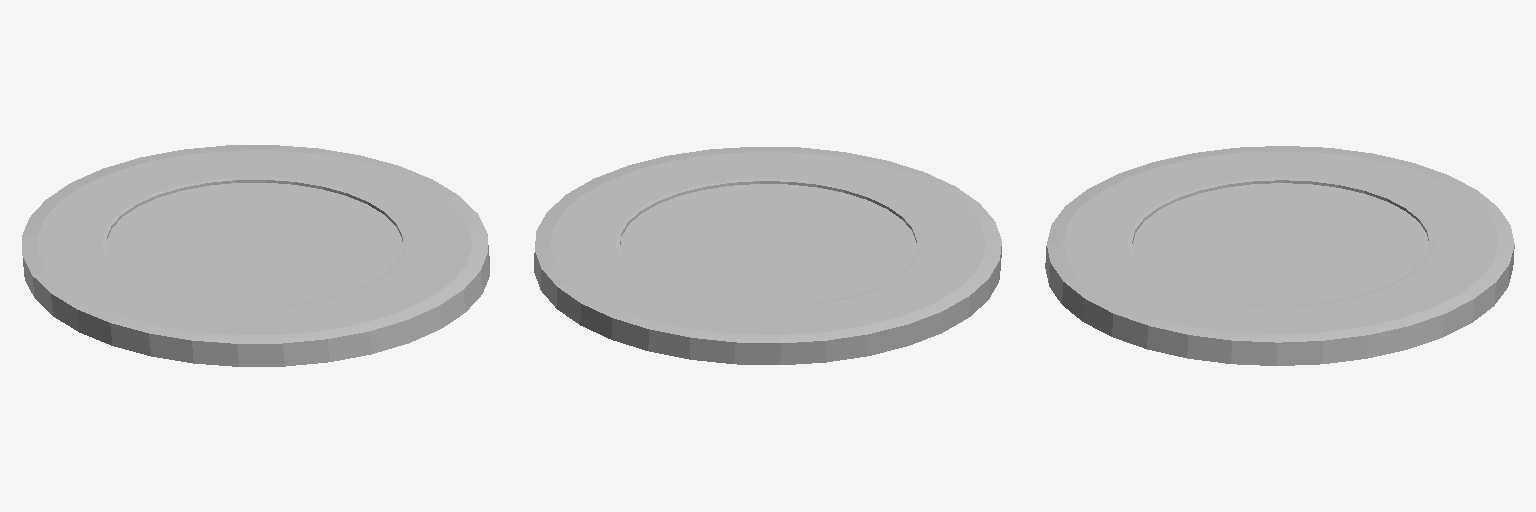
The model's file is chip.obj.
3 renders of one model, left to right at view 1: azimuth 30°, elevation 25°; view 2: azimuth 150°, elevation 25°; view 3: azimuth 270°, elevation 25°, orthographic.
Visible parts, largest first — view 1: Circle.001; view 2: Circle.001; view 3: Circle.001.
Part boxes in pixels (left/top/right/bottom): Circle.001: left=22, top=145, right=489, bottom=366; Circle.001: left=534, top=147, right=1001, bottom=364; Circle.001: left=1045, top=146, right=1514, bottom=365.
Size of the model in its own units: 1.3 by 0.0848 by 1.3.